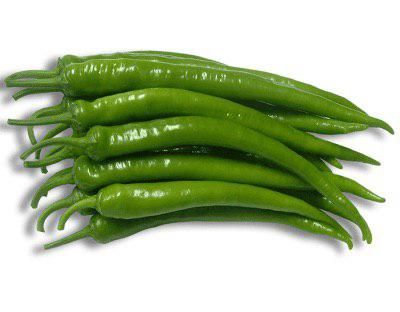lada hijau: (69, 83, 375, 166), (63, 52, 371, 121), (69, 91, 356, 164), (90, 180, 329, 227), (67, 156, 307, 196)
